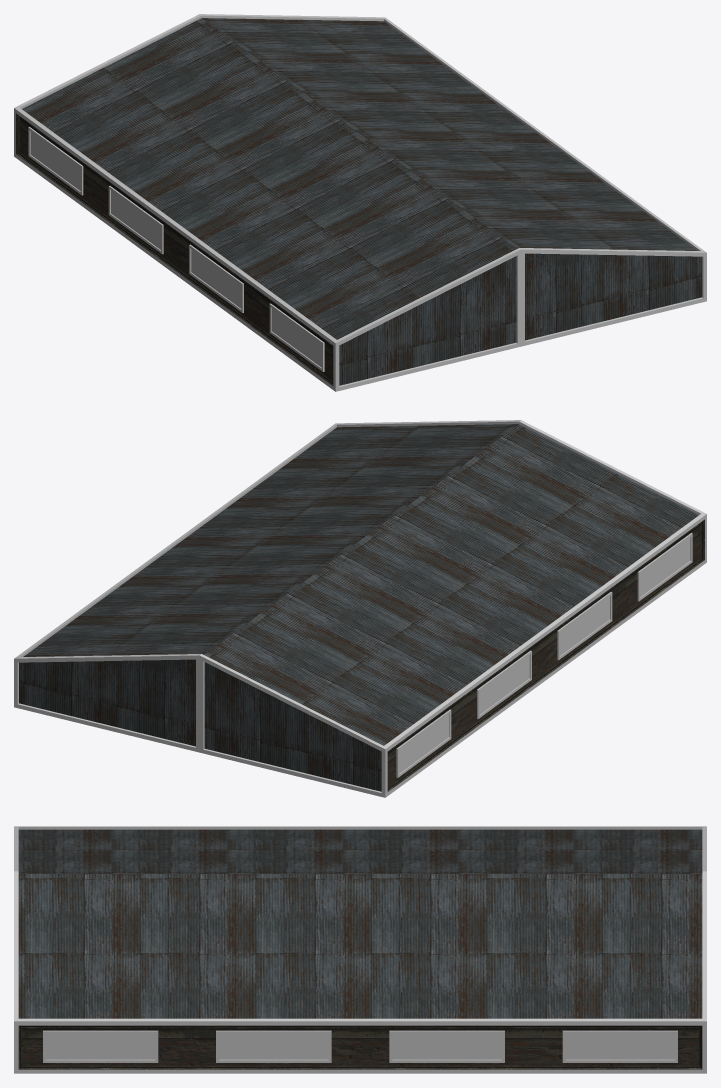
The model's file is roof_mh_4_a_3.fbx.
3 renders of one model, top to bottom at view 1: azimuth 30°, elevation 25°; view 2: azimuth 150°, elevation 25°; view 3: azimuth 270°, elevation 25°, orthographic. The views are drawn at different scales.
Visible parts, largest first — view 1: roof_mh_4_a_3; view 2: roof_mh_4_a_3; view 3: roof_mh_4_a_3.
Boxes of the visible parts, x1,y1,x2,y2 form: roof_mh_4_a_3: (14,14,706,391); roof_mh_4_a_3: (14,420,706,797); roof_mh_4_a_3: (14,826,706,1073).
Size of the model in its own units: 8 by 12 by 2.
